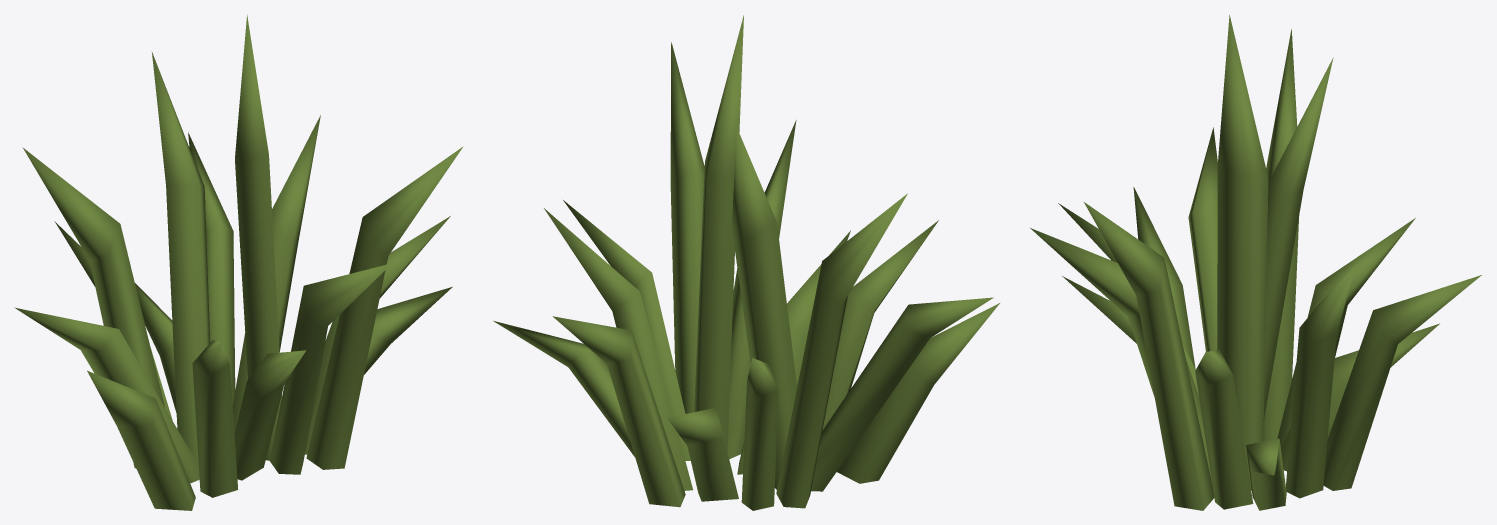
File: rpgpp_ag_grass_small_01e.fbx
3 views of the same model, side by side, from view 1: azimuth 30°, elevation 25°; view 2: azimuth 150°, elevation 25°; view 3: azimuth 270°, elevation 25° (orthographic).
Visible parts, largest first — view 1: rpgpp_ag_grass_small_01e; view 2: rpgpp_ag_grass_small_01e; view 3: rpgpp_ag_grass_small_01e.
Part boxes in pixels (left/top/right/bottom): rpgpp_ag_grass_small_01e: left=14, top=14, right=463, bottom=510; rpgpp_ag_grass_small_01e: left=493, top=15, right=999, bottom=510; rpgpp_ag_grass_small_01e: left=1030, top=15, right=1481, bottom=510.
Size of the model in its own units: 1.27 by 1.17 by 1.05.
